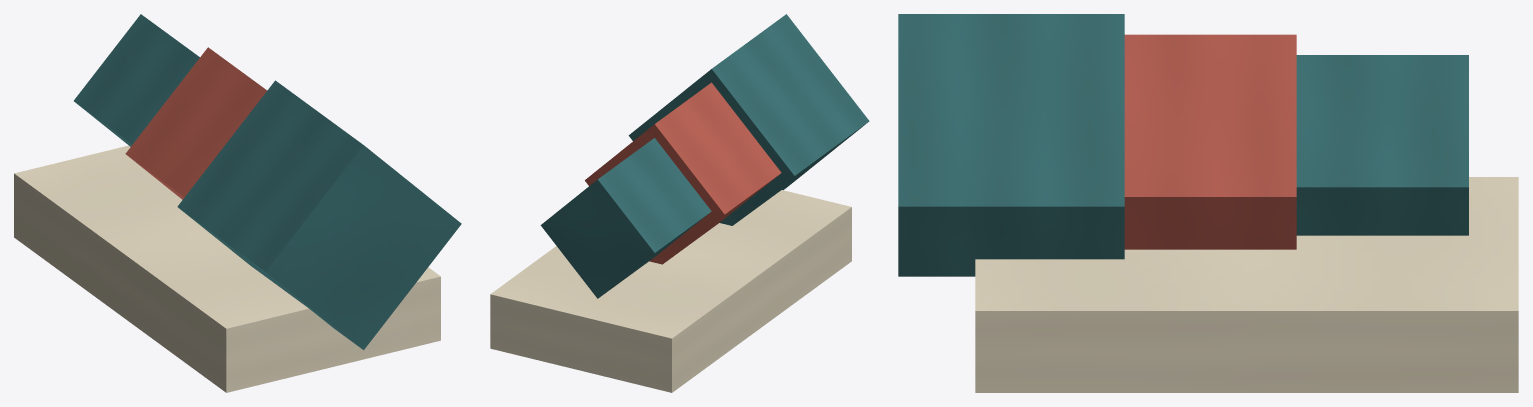
The model's file is atlas100-s036-a05.lod2.glb.
3 renders of one model, left to right at view 1: azimuth 30°, elevation 25°; view 2: azimuth 150°, elevation 25°; view 3: azimuth 270°, elevation 25°, orthographic. The views are drawn at different scales.
Parts seen in each view (by area): view 1: atlas100-s036-a05:part-004, atlas100-s036-a05:part-002, atlas100-s036-a05:part-001, atlas100-s036-a05:part-000; view 2: atlas100-s036-a05:part-004, atlas100-s036-a05:part-002, atlas100-s036-a05:part-000, atlas100-s036-a05:part-001; view 3: atlas100-s036-a05:part-004, atlas100-s036-a05:part-002, atlas100-s036-a05:part-001, atlas100-s036-a05:part-000.
Part boxes in pixels (left/top/right/bottom): atlas100-s036-a05:part-004: left=14, top=145, right=440, bottom=392; atlas100-s036-a05:part-002: left=177, top=80, right=461, bottom=349; atlas100-s036-a05:part-001: left=125, top=47, right=267, bottom=199; atlas100-s036-a05:part-000: left=74, top=14, right=199, bottom=146; atlas100-s036-a05:part-004: left=490, top=190, right=851, bottom=392; atlas100-s036-a05:part-002: left=628, top=14, right=869, bottom=225; atlas100-s036-a05:part-000: left=540, top=138, right=711, bottom=298; atlas100-s036-a05:part-001: left=585, top=82, right=781, bottom=264; atlas100-s036-a05:part-004: left=975, top=177, right=1518, bottom=392; atlas100-s036-a05:part-002: left=898, top=14, right=1124, bottom=276; atlas100-s036-a05:part-001: left=1124, top=34, right=1296, bottom=249; atlas100-s036-a05:part-000: left=1296, top=55, right=1468, bottom=235.
Size of the model in its own units: 0.3822 by 0.415 by 0.748.
Materials: 3 (3 with a texture image).
